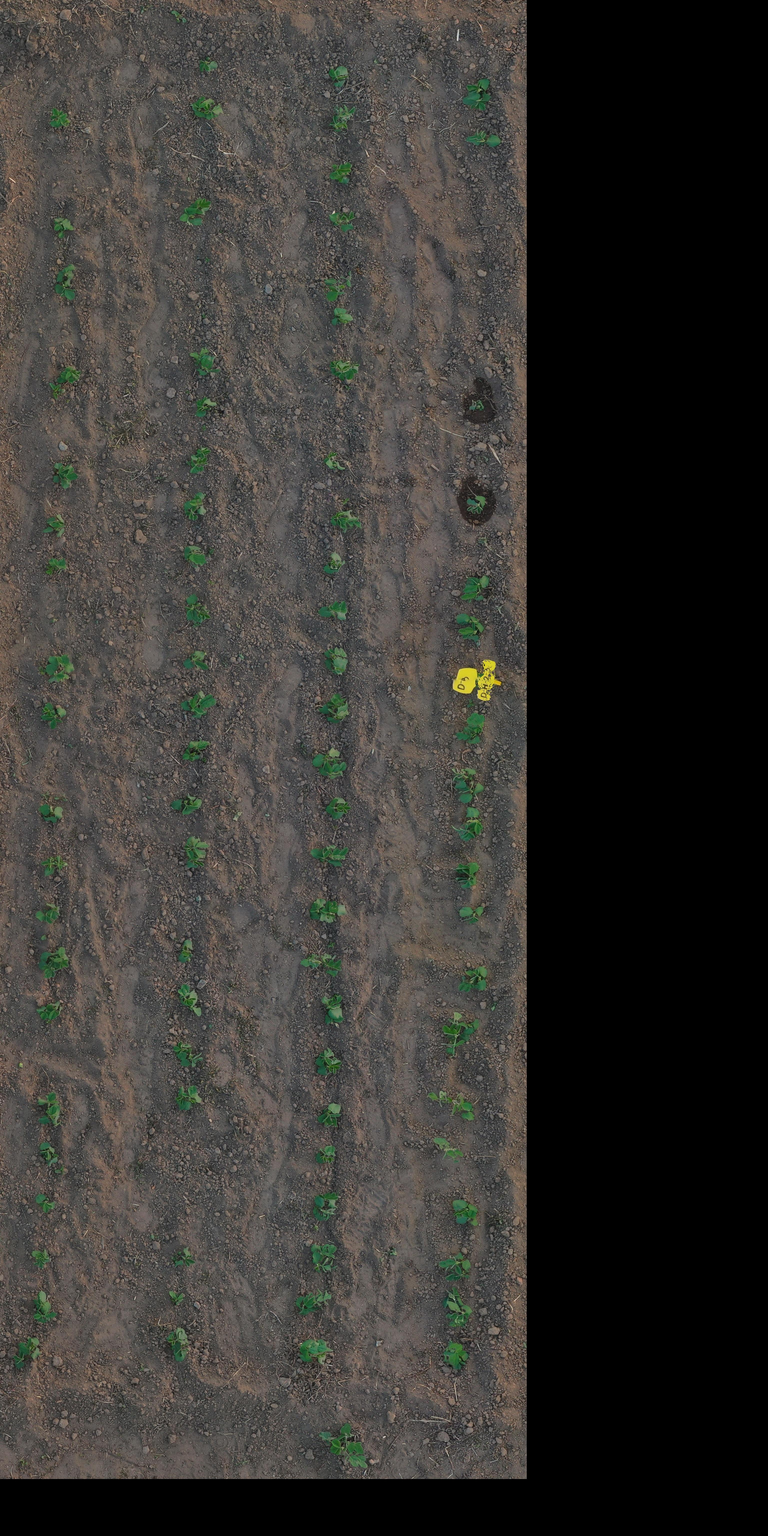s: (318, 1431, 368, 1468), (442, 1286, 472, 1328), (428, 1090, 472, 1116), (440, 1012, 465, 1056), (323, 270, 352, 302), (336, 1422, 364, 1455), (433, 1137, 464, 1163), (465, 128, 501, 148), (310, 846, 343, 867), (170, 794, 200, 816), (312, 747, 343, 768), (40, 854, 68, 877), (182, 835, 210, 858), (319, 900, 347, 923), (318, 693, 347, 715), (40, 706, 67, 729), (325, 797, 352, 820), (444, 1259, 471, 1282), (166, 1327, 189, 1354), (328, 211, 356, 233), (196, 690, 217, 719), (462, 91, 492, 111), (180, 693, 206, 716), (320, 994, 343, 1020), (451, 766, 477, 789), (312, 1251, 338, 1274), (458, 621, 484, 643), (314, 1196, 336, 1222), (295, 1294, 321, 1316), (442, 1343, 468, 1365), (318, 761, 348, 780), (327, 700, 350, 724), (18, 1337, 42, 1360), (465, 806, 484, 835), (320, 953, 342, 978), (458, 783, 484, 804), (181, 1085, 202, 1111), (48, 654, 75, 674), (184, 593, 203, 621), (462, 575, 490, 594), (192, 95, 215, 118), (466, 78, 490, 100), (55, 276, 77, 300), (37, 1103, 61, 1125), (196, 355, 221, 376), (334, 361, 360, 381), (183, 650, 209, 670), (185, 196, 212, 215), (315, 1338, 334, 1365), (195, 396, 218, 418), (299, 1339, 320, 1363), (60, 464, 79, 490), (438, 1252, 464, 1271), (174, 1246, 196, 1268), (329, 162, 352, 183), (330, 509, 354, 529), (322, 1103, 342, 1127), (45, 664, 70, 683), (39, 1142, 58, 1167), (450, 824, 476, 842), (452, 1199, 478, 1217), (456, 868, 478, 889), (184, 545, 207, 565), (323, 646, 343, 669), (312, 1192, 339, 1209), (323, 550, 342, 574), (33, 1290, 52, 1314), (459, 906, 484, 924), (470, 966, 488, 991), (33, 1306, 58, 1324), (35, 1193, 56, 1214), (328, 66, 348, 88), (315, 1047, 337, 1067), (179, 208, 203, 226), (318, 600, 342, 618), (173, 1338, 191, 1362), (455, 727, 480, 744), (317, 1059, 342, 1076), (189, 346, 210, 366), (184, 546, 203, 568), (466, 712, 485, 734), (177, 984, 196, 1006), (311, 1243, 337, 1259), (178, 939, 194, 964), (315, 1145, 336, 1164), (324, 658, 346, 676), (188, 989, 202, 1017), (333, 104, 356, 121), (455, 1209, 478, 1226), (42, 521, 66, 537), (53, 946, 69, 970), (49, 108, 68, 128), (56, 264, 76, 283), (173, 1040, 192, 1060), (52, 462, 70, 483), (466, 496, 487, 514), (309, 898, 326, 920), (300, 953, 322, 970), (326, 844, 349, 860), (180, 1052, 203, 1068), (204, 103, 224, 121), (46, 1000, 64, 1020), (186, 849, 204, 869), (189, 491, 206, 512), (329, 360, 351, 376), (458, 970, 474, 992), (182, 744, 201, 762), (328, 115, 348, 132), (189, 457, 209, 474), (38, 1092, 60, 1107), (43, 902, 60, 921), (59, 366, 82, 380), (317, 1113, 338, 1128), (456, 613, 480, 626), (455, 861, 479, 874), (199, 56, 218, 72), (195, 604, 211, 623), (39, 952, 55, 971), (461, 1100, 475, 1121), (463, 1018, 480, 1035), (35, 909, 54, 924), (42, 964, 61, 979), (48, 557, 68, 571), (443, 1358, 466, 1370), (175, 1086, 186, 1111), (189, 739, 210, 752), (316, 1288, 332, 1305), (334, 307, 353, 321), (324, 451, 338, 470), (46, 513, 65, 527), (460, 590, 484, 601), (33, 1254, 50, 1269), (168, 1291, 184, 1306), (54, 217, 71, 231), (195, 445, 212, 459), (338, 647, 348, 670), (13, 1350, 25, 1369), (36, 1006, 51, 1021), (56, 374, 78, 384), (337, 600, 348, 620), (42, 702, 56, 717), (324, 1014, 345, 1024), (31, 1248, 50, 1259), (331, 316, 351, 326), (346, 516, 362, 528), (185, 512, 206, 521), (50, 806, 64, 819), (469, 399, 484, 411), (38, 803, 53, 815), (184, 500, 198, 512), (42, 814, 57, 824), (332, 460, 346, 470), (188, 799, 202, 808), (58, 224, 66, 239), (336, 560, 346, 572), (341, 172, 350, 185), (61, 118, 71, 128), (54, 1165, 64, 1174), (46, 565, 54, 576)
